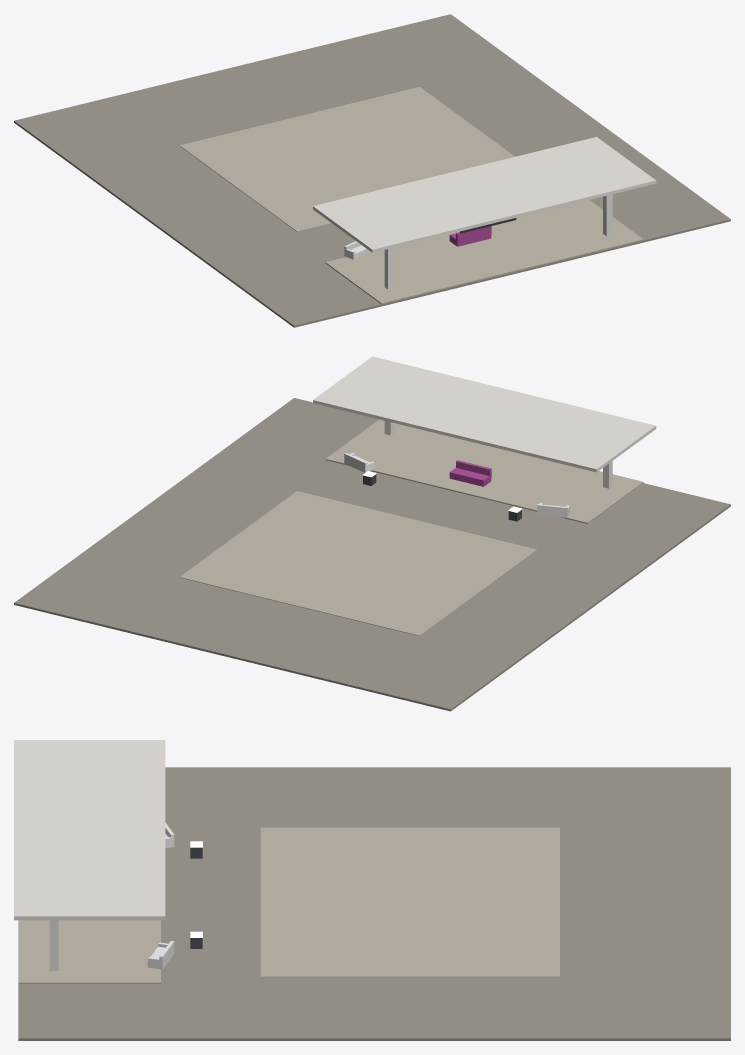
Rendered from skin-outdoor-pool-lounge-v1-decorated-world.glb.
3 views of the same model, one above another, from view 1: azimuth 30°, elevation 25°; view 2: azimuth 150°, elevation 25°; view 3: azimuth 270°, elevation 25° (orthographic). The views are drawn at different scales.
Parts seen in each view (by area): view 1: Terrain, Pool_Deck_Ring, Pavilion_Roof, Pavilion_Floor; view 2: Terrain, Pool_Deck_Ring, Pavilion_Roof, Pavilion_Floor; view 3: Terrain, Pool_Deck_Ring, Pavilion_Roof, Pavilion_Floor, Col_R.
Boxes of the visible parts, <box> form: Terrain: <box>14,14,730,327</box>; Pool_Deck_Ring: <box>179,87,514,231</box>; Pavilion_Roof: <box>313,137,656,252</box>; Pavilion_Floor: <box>325,200,643,304</box>; Terrain: <box>14,398,730,711</box>; Pool_Deck_Ring: <box>179,491,536,636</box>; Pavilion_Roof: <box>313,356,656,472</box>; Pavilion_Floor: <box>325,419,643,523</box>; Terrain: <box>18,767,730,1040</box>; Pool_Deck_Ring: <box>260,827,559,977</box>; Pavilion_Roof: <box>14,740,165,920</box>; Pavilion_Floor: <box>18,920,160,983</box>; Col_R: <box>49,920,58,970</box>.
Size of the model in its own units: 36 by 5.43 by 40.25.
